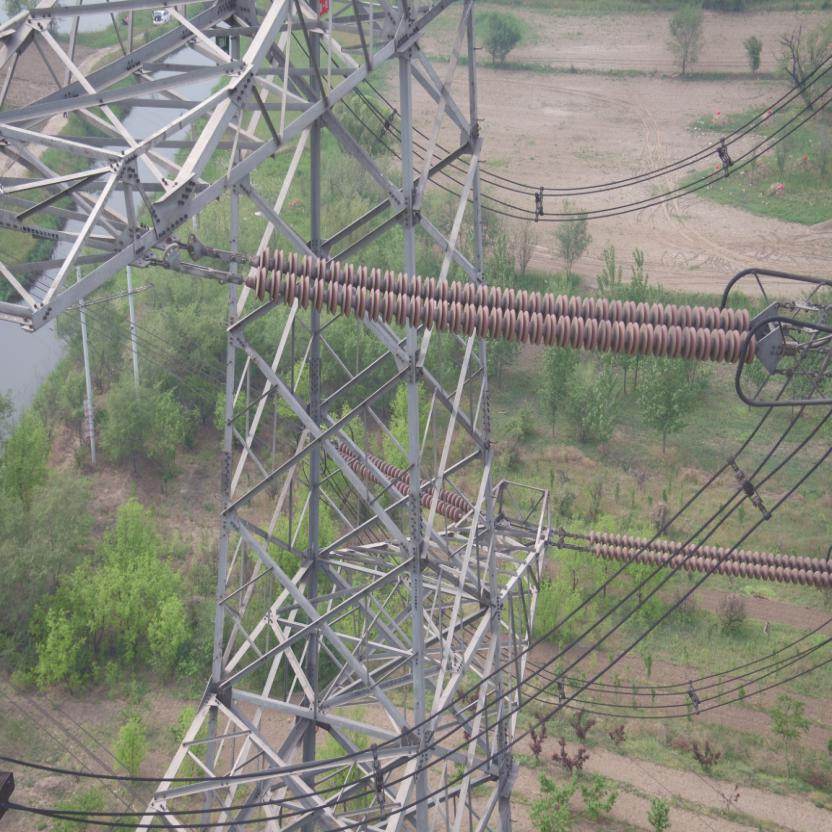insulator: (214, 244, 770, 366), (577, 526, 831, 589)
